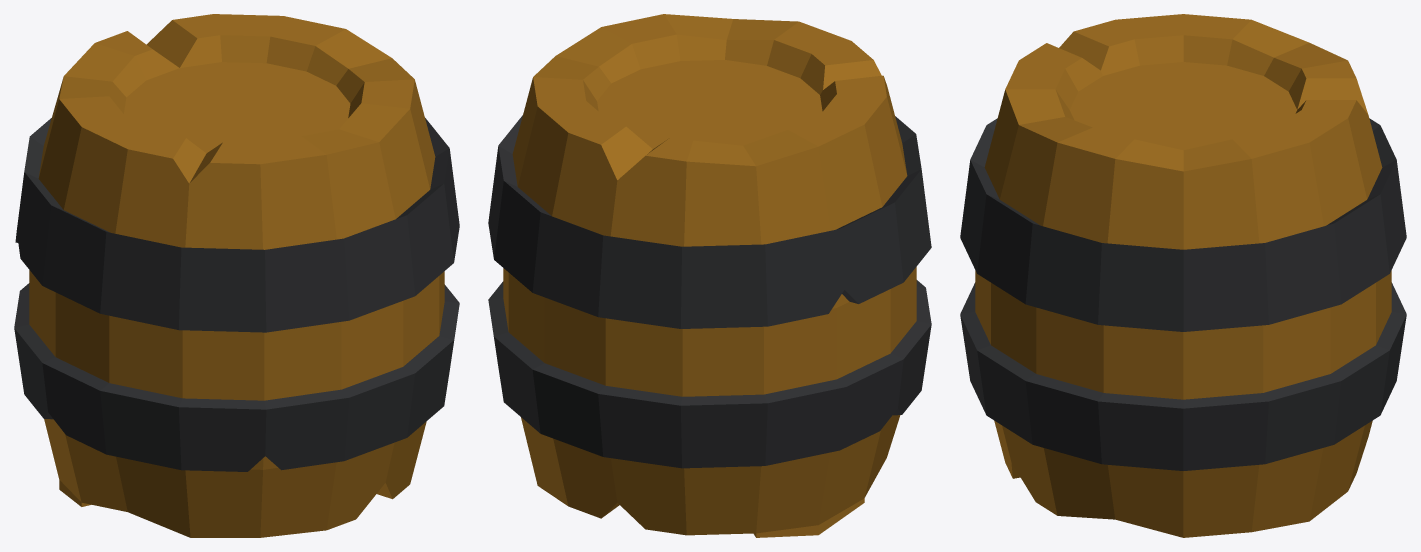
Rendered from barrel.fbx.
3 views of the same model, side by side, from view 1: azimuth 30°, elevation 25°; view 2: azimuth 150°, elevation 25°; view 3: azimuth 270°, elevation 25° (orthographic).
Parts seen in each view (by area): view 1: Cylinder.001; view 2: Cylinder.001; view 3: Cylinder.001.
Boxes of the visible parts, <box> form: Cylinder.001: <box>14,14,459,537</box>; Cylinder.001: <box>488,14,931,537</box>; Cylinder.001: <box>960,14,1406,537</box>.
Bounding box in the file's own units: 251 × 240 × 251.
Materials: 2 (2 with a texture image).
